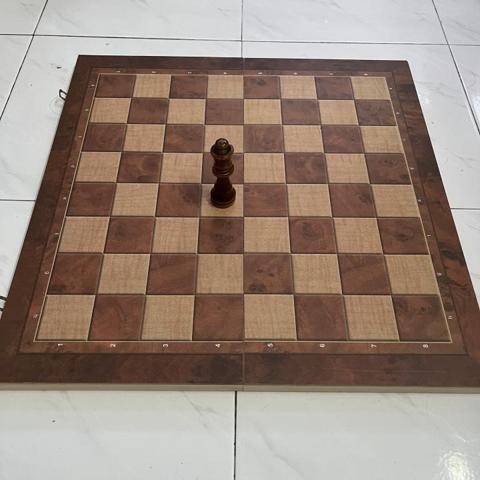xcorner: (344, 90, 362, 108), (116, 114, 134, 132), (111, 142, 129, 160), (307, 90, 325, 107), (270, 90, 288, 107), (233, 89, 250, 107), (121, 88, 138, 106), (272, 115, 289, 133), (233, 115, 251, 132), (194, 115, 212, 132), (354, 144, 372, 161), (274, 143, 291, 161), (233, 143, 251, 160), (152, 143, 170, 160), (360, 174, 377, 192), (191, 173, 208, 191), (278, 207, 295, 225), (189, 207, 207, 224), (373, 244, 390, 262), (327, 244, 344, 262), (280, 244, 298, 261), (187, 244, 205, 261), (140, 244, 158, 261), (93, 244, 111, 261), (380, 285, 398, 302), (196, 89, 213, 106), (159, 89, 176, 106), (349, 116, 366, 133), (311, 116, 328, 133), (156, 115, 173, 132), (314, 144, 331, 161), (193, 143, 210, 160), (318, 174, 335, 191), (276, 174, 293, 191), (234, 174, 251, 191), (149, 173, 166, 190), (106, 173, 123, 190), (366, 208, 383, 225), (322, 208, 339, 225), (234, 207, 251, 224), (145, 207, 162, 224), (100, 207, 117, 224), (234, 244, 251, 261), (332, 285, 349, 302), (283, 285, 300, 302), (234, 285, 251, 302), (185, 285, 202, 302), (136, 285, 153, 302), (86, 285, 103, 302)
